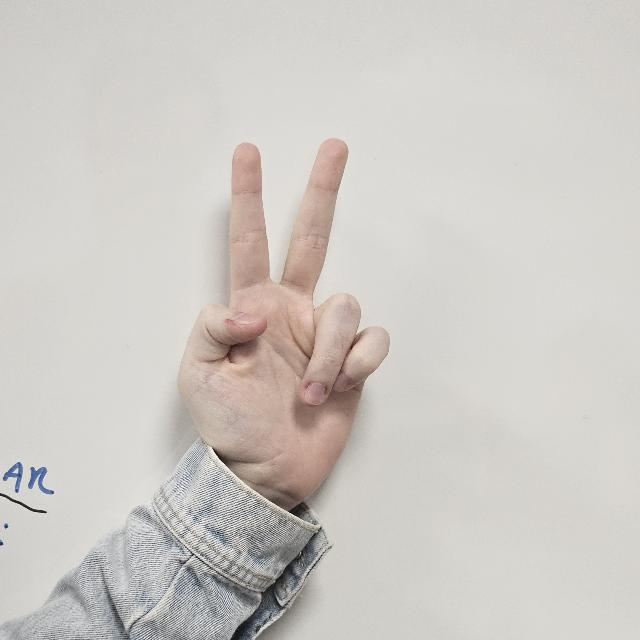Triangulo: (182, 138, 390, 512)
